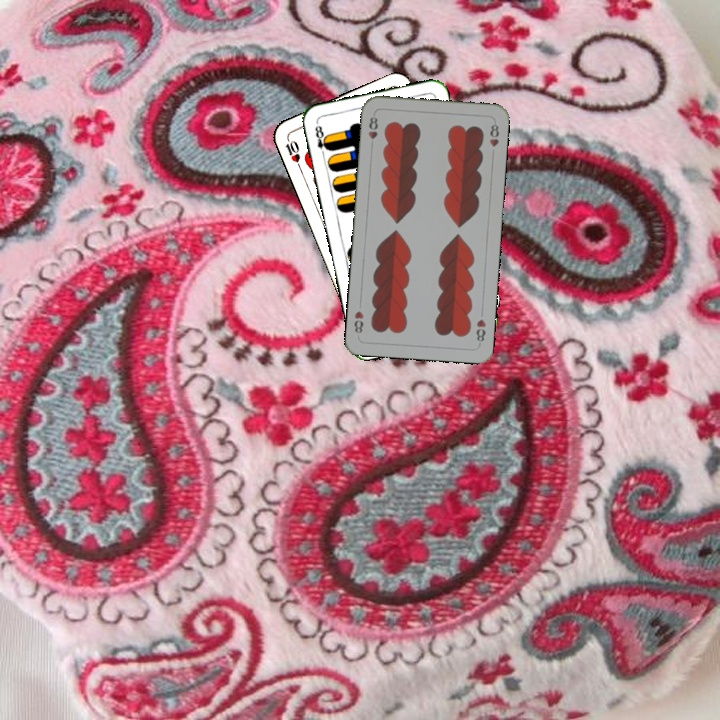E8: (311, 122, 332, 160)
H10: (281, 133, 303, 172)
H8: (472, 315, 488, 347), (364, 113, 380, 142)
